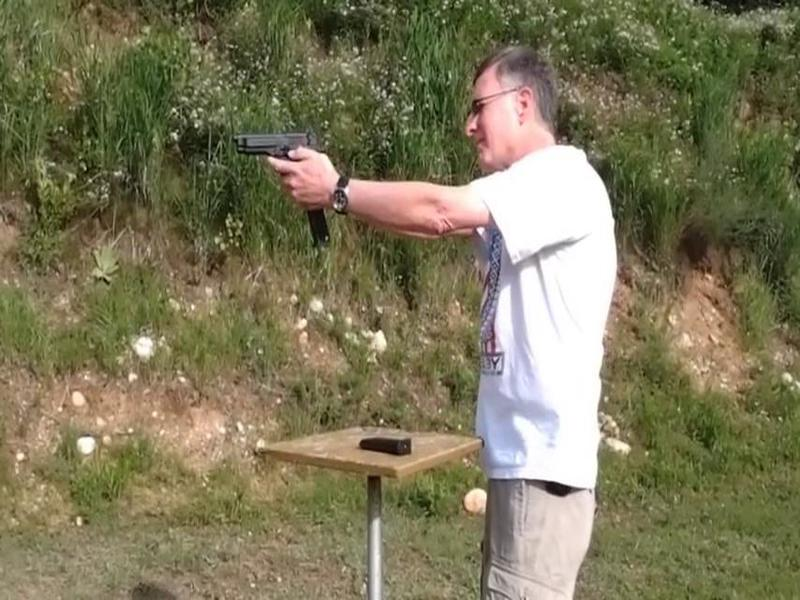Pistola: (212, 118, 337, 209)
